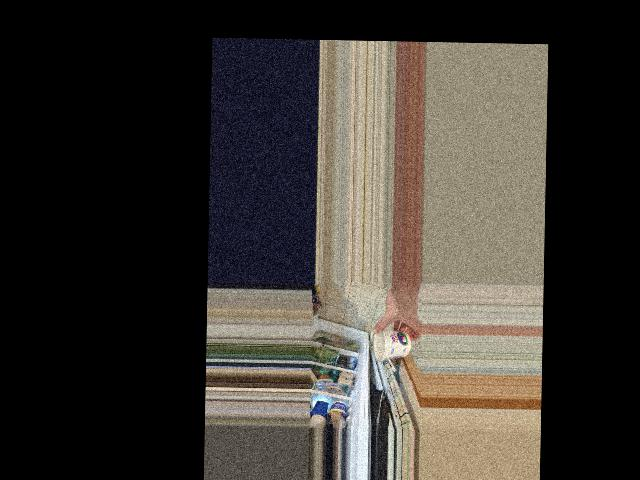cotage: (372, 329, 413, 361)
